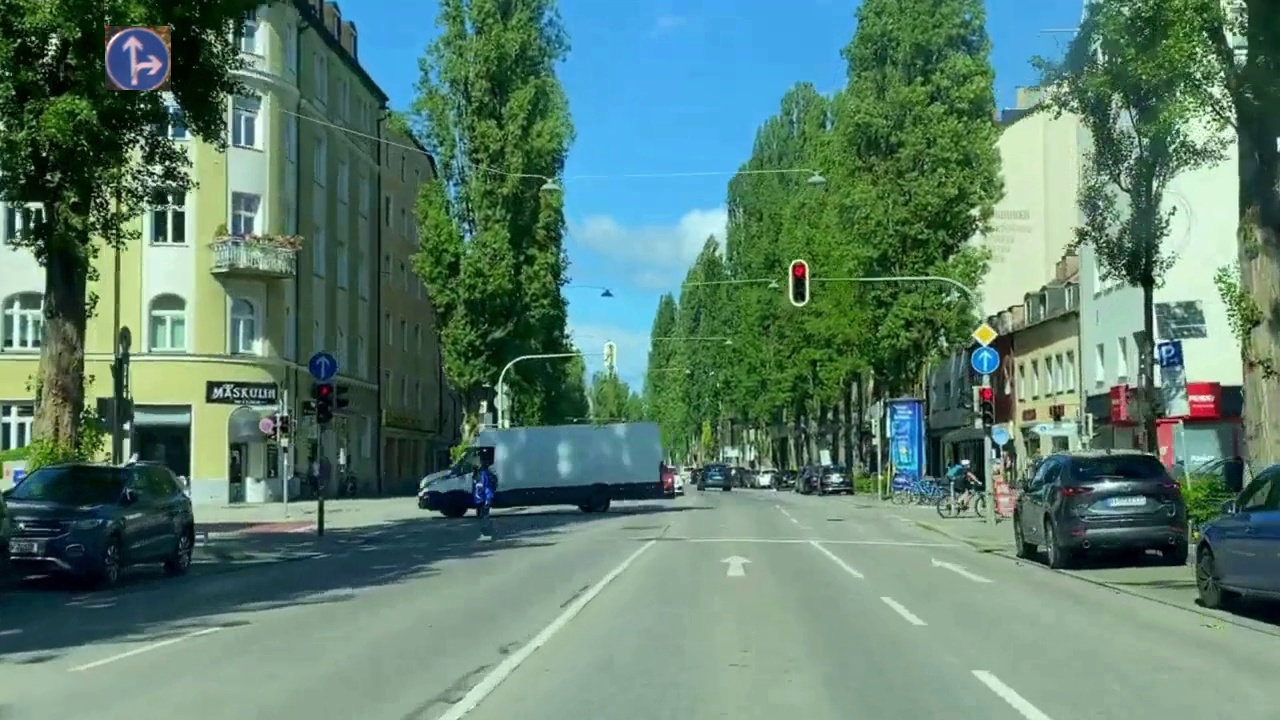Straight/right: (105, 26, 171, 90)
